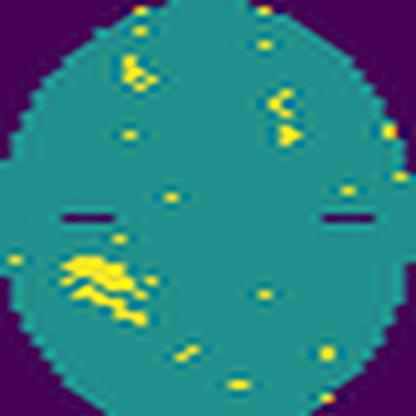Loc: (61, 254, 150, 300), (72, 285, 148, 333)
